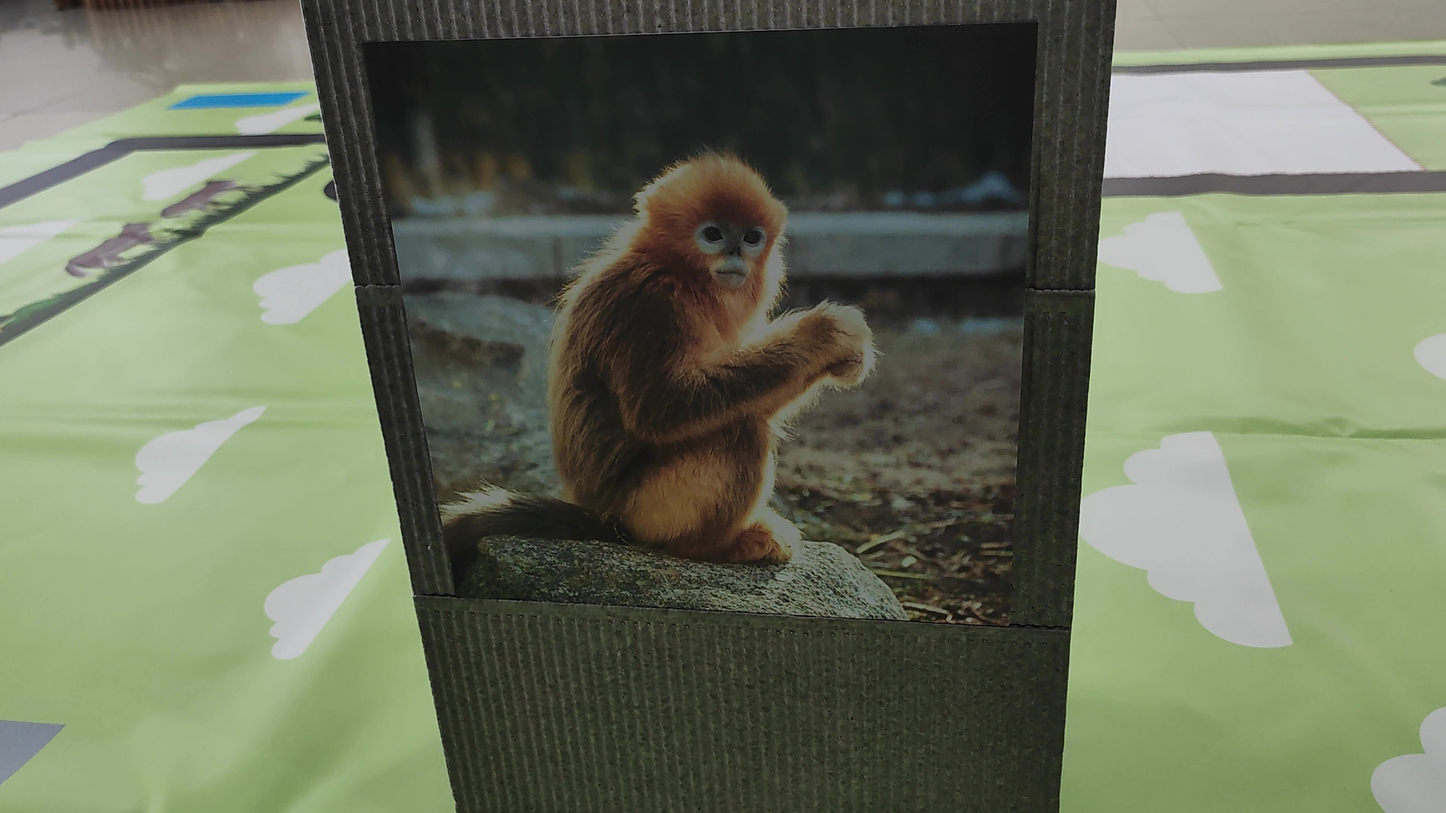monkey: (406, 139, 877, 579)
